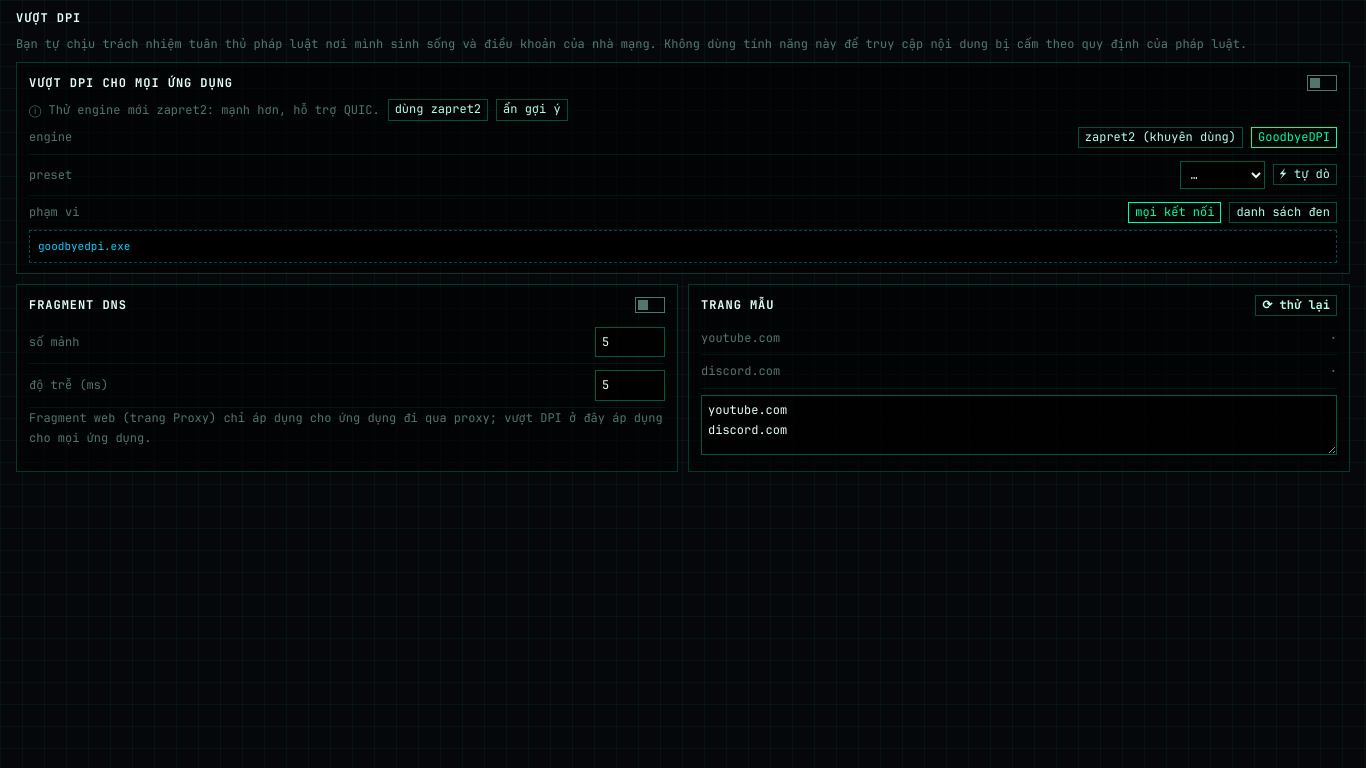
Test: dpi toggle and probe
The image size is (1366, 768).
Click the switch named "VƯỢT DPI CHO MỌI ỨNG DỤNG".
click(1322, 83)  # box x1=1307 y1=75 x2=1337 y2=91
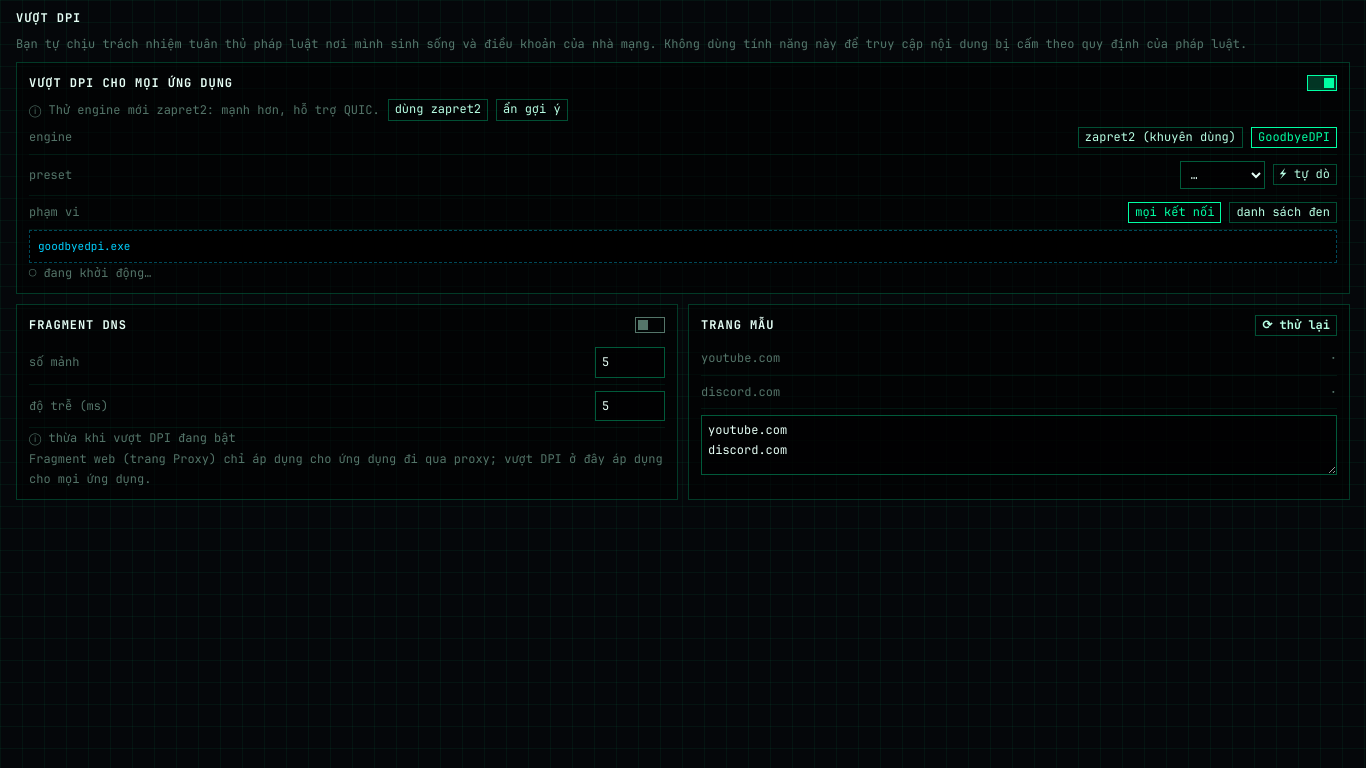
Click the button "⟳ thử lại".
click(1296, 326)  # box x1=1255 y1=315 x2=1337 y2=336
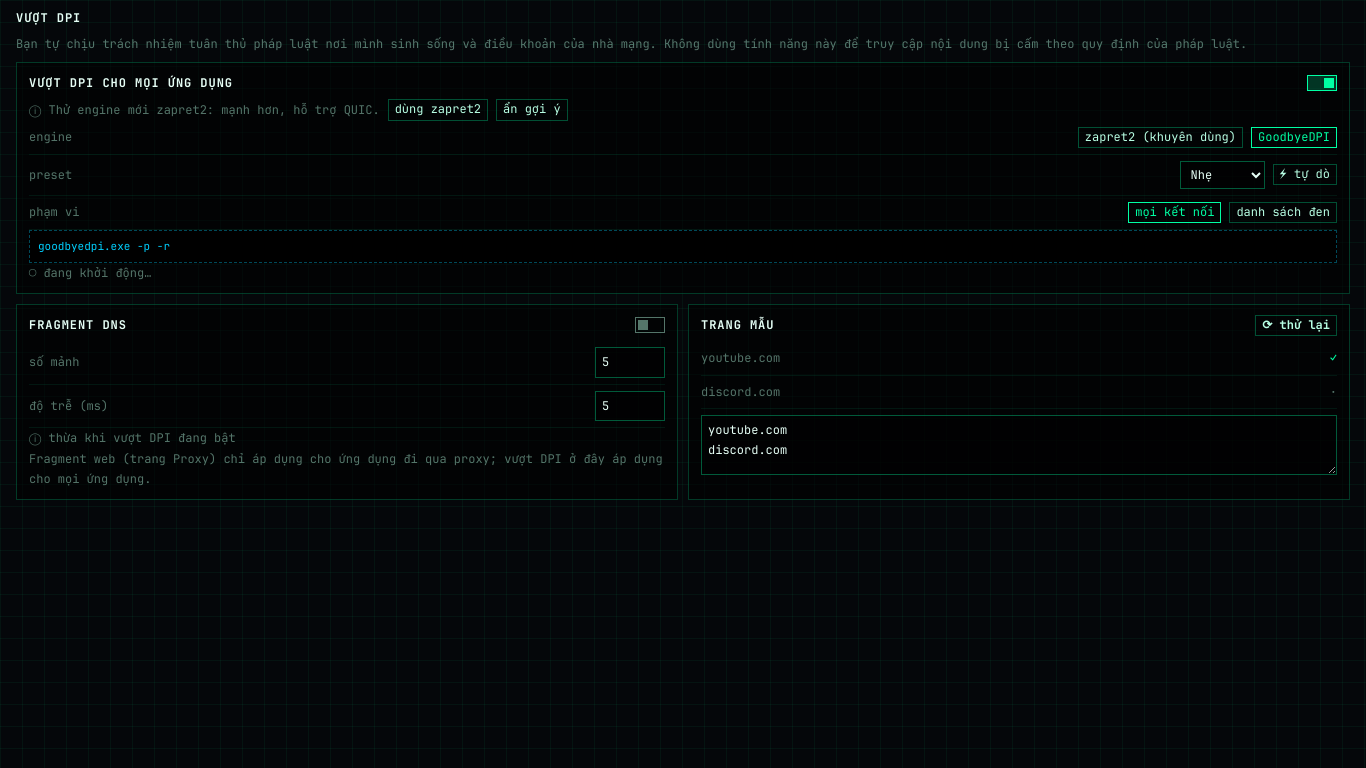
Result: the text "✓" is shown at x1=1330 y1=348 x2=1337 y2=369
Result: the text "goodbyedpi.exe -p -r" is shown at x1=29 y1=230 x2=1337 y2=263
